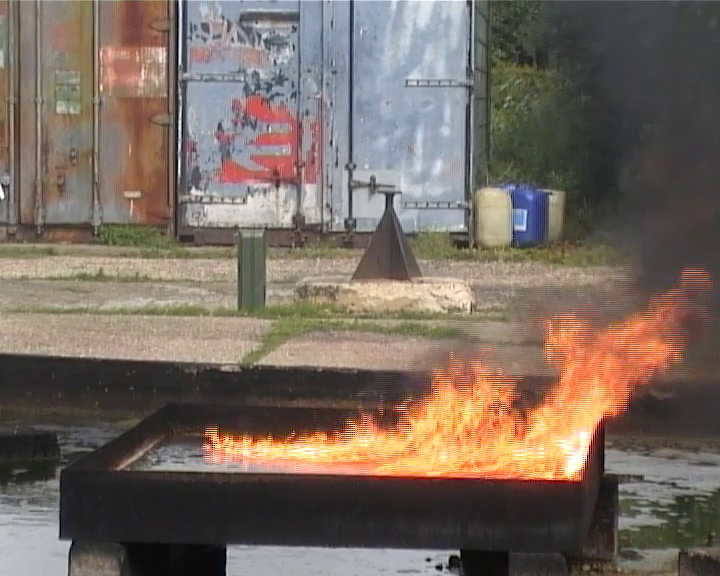fire: (214, 319, 670, 474)
